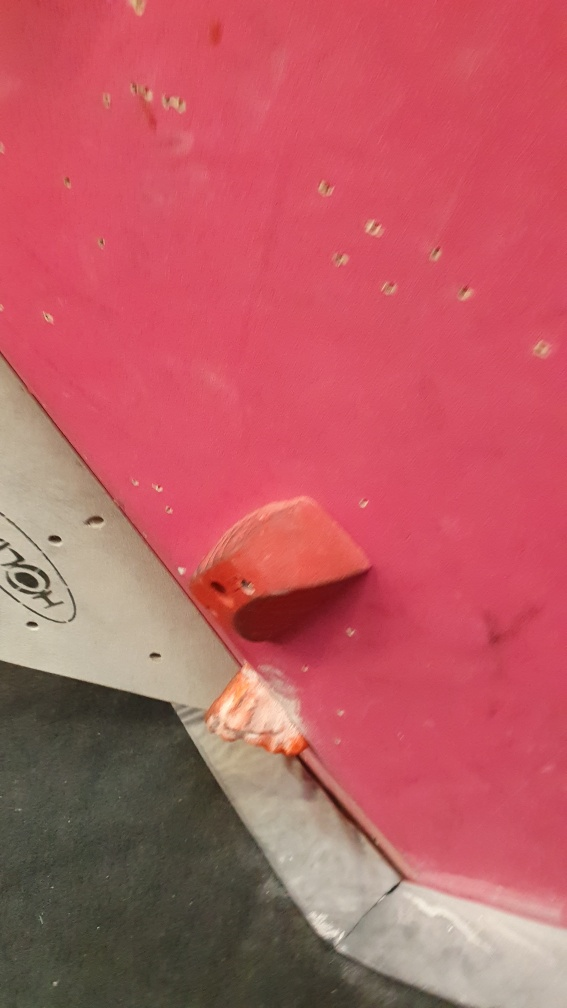Jug: (202, 664, 312, 761)
